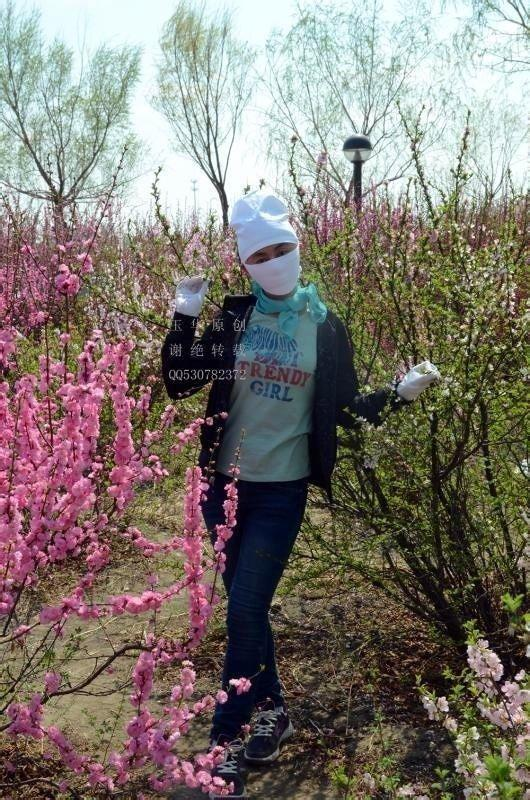OK: (248, 244, 301, 297)
